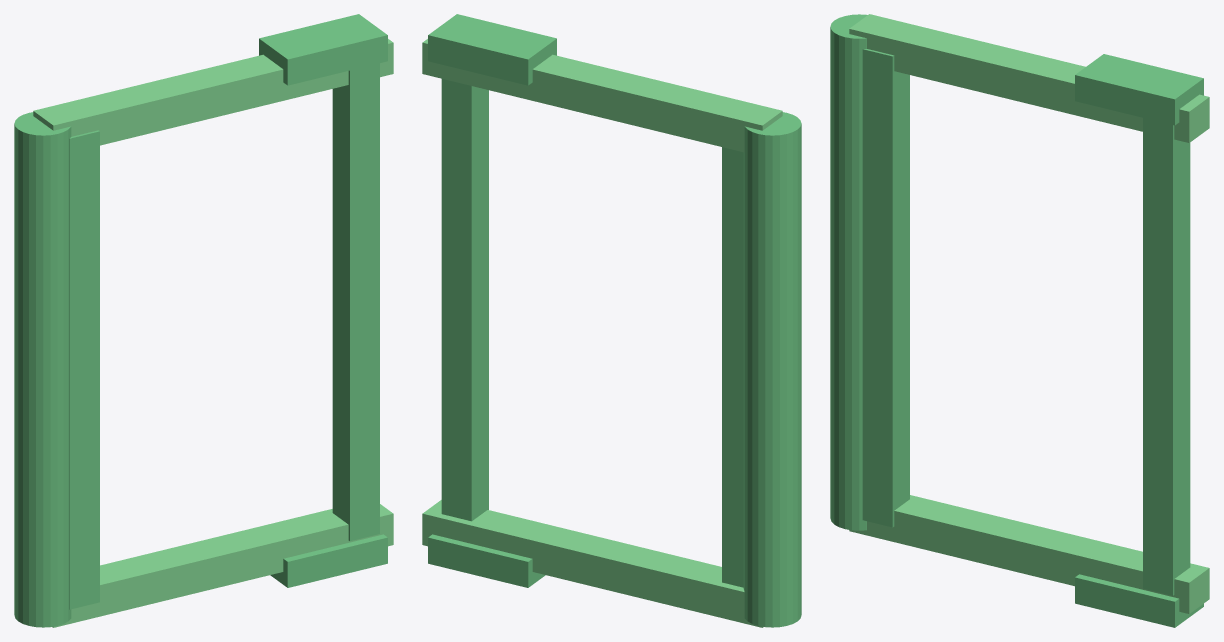
3 renders of one model, left to right at view 1: azimuth 30°, elevation 25°; view 2: azimuth 150°, elevation 25°; view 3: azimuth 330°, elevation 25°, orthographic.
Parts seen in each view (by area): view 1: model_2_NOSIMPLIFY; view 2: model_2_NOSIMPLIFY; view 3: model_2_NOSIMPLIFY.
Boxes of the visible parts, x1,y1,x2,y2 form: model_2_NOSIMPLIFY: (14, 14, 393, 627); model_2_NOSIMPLIFY: (422, 14, 801, 627); model_2_NOSIMPLIFY: (830, 14, 1209, 627).
Size of the model in its own units: 0.365 by 0.505 by 0.05.
